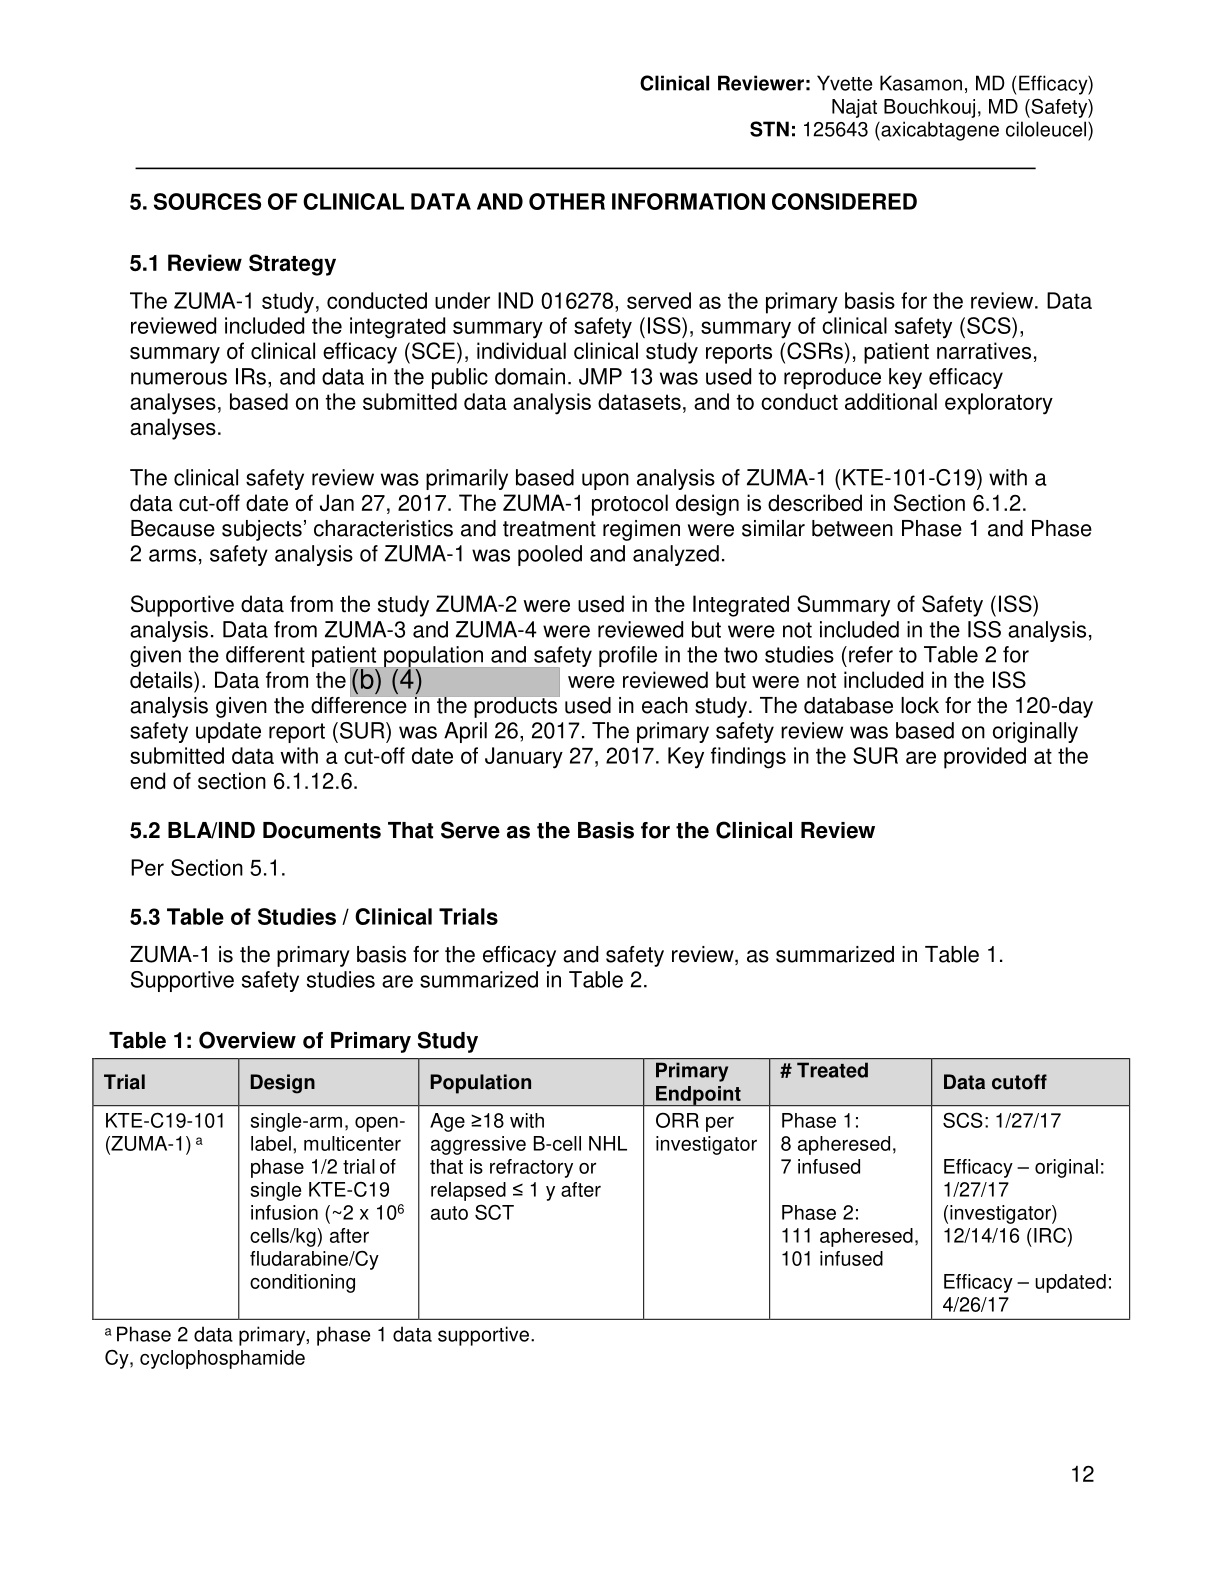full_lined: (86, 1050, 1140, 1326)
